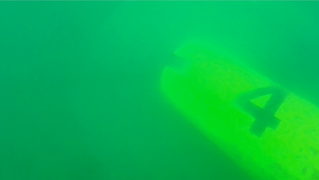4: (234, 84, 290, 137)
pipe: (157, 38, 319, 180)
